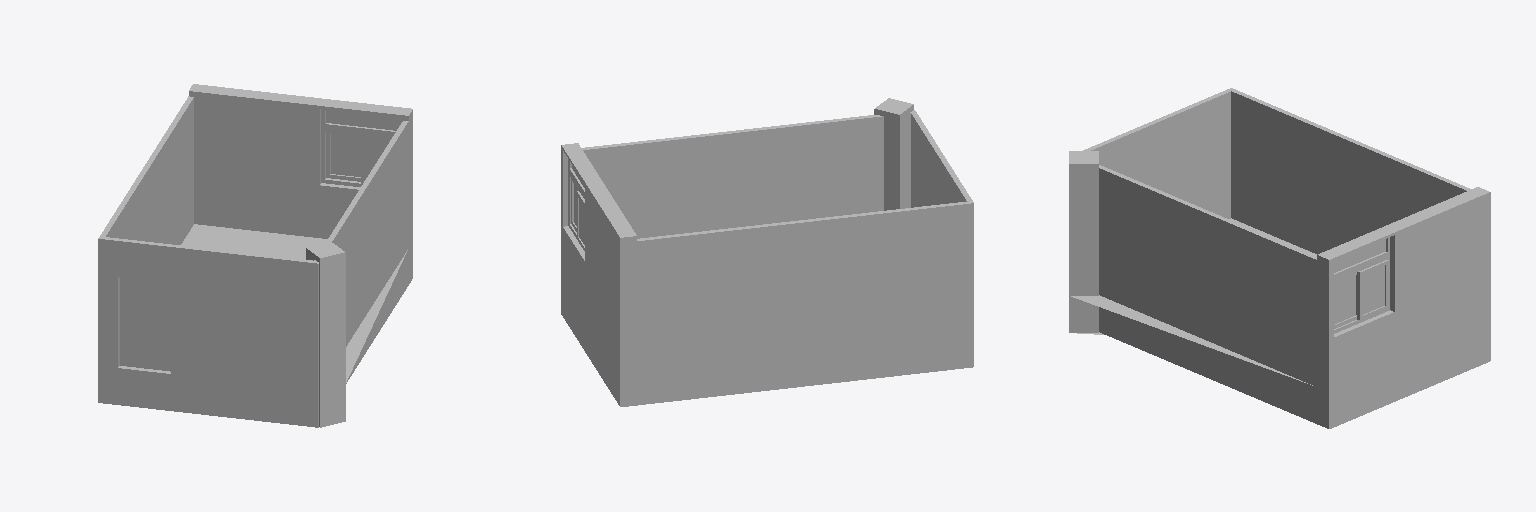
The picture shows the model from 3 angles: view 1: azimuth 30°, elevation 25°; view 2: azimuth 150°, elevation 25°; view 3: azimuth 270°, elevation 25°; orthographic projection.
Parts seen in each view (by area): view 1: Mesh3 Group3 Model, Mesh2 Group2 Model, Mesh1 Group1 Model, Mesh4 Group4 Model, Mesh5 Group5 Model, Mesh6 Group6 Model, Mesh11 Glazing2 Window_Sliding_Casement_14_1 Window_Sliding_7_1 , Mesh15 Glazing4 Window_Fixed_2_1 Group7 Model, Mesh7 Window_Sliding_Main_Frame_7 Window_Sliding_7_1 Group7 Mode; view 2: Mesh5 Group5 Model, Mesh4 Group4 Model, Mesh2 Group2 Model, Mesh1 Group1 Model, Mesh3 Group3 Model, Mesh6 Group6 Model; view 3: Mesh4 Group4 Model, Mesh2 Group2 Model, Mesh5 Group5 Model, Mesh3 Group3 Model, Mesh1 Group1 Model, Mesh6 Group6 Model, Mesh9 Glazing1 Window_Sliding_Casement_14 Window_Sliding_7_1 Gro, Mesh12 Glazing3 Window_Sliding_Casement_14_1 Window_Sliding_7_1 , Mesh13 Window_Sliding_Casement_14_1 Window_Sliding_7_1 Group7 Mo, Mesh16 Glazing5 Window_Fixed_2_1 Group7 Model.
Part boxes in pixels (bbox=[...]): Mesh3 Group3 Model: bbox=[98, 236, 318, 390]; Mesh2 Group2 Model: bbox=[189, 84, 412, 283]; Mesh1 Group1 Model: bbox=[98, 224, 408, 427]; Mesh4 Group4 Model: bbox=[314, 121, 408, 346]; Mesh5 Group5 Model: bbox=[100, 96, 193, 244]; Mesh6 Group6 Model: bbox=[306, 242, 345, 390]; Mesh11 Glazing2 Window_Sliding_Casement_14_1 Window_Sliding_7_1 : bbox=[331, 134, 360, 176]; Mesh15 Glazing4 Window_Fixed_2_1 Group7 Model: bbox=[326, 110, 400, 130]; Mesh7 Window_Sliding_Main_Frame_7 Window_Sliding_7_1 Group7 Mode: bbox=[321, 127, 393, 186]; Mesh5 Group5 Model: bbox=[637, 202, 968, 367]; Mesh4 Group4 Model: bbox=[582, 112, 910, 238]; Mesh2 Group2 Model: bbox=[561, 143, 636, 406]; Mesh1 Group1 Model: bbox=[637, 330, 973, 405]; Mesh3 Group3 Model: bbox=[911, 110, 973, 330]; Mesh6 Group6 Model: bbox=[874, 98, 913, 210]; Mesh4 Group4 Model: bbox=[1099, 165, 1316, 386]; Mesh2 Group2 Model: bbox=[1317, 187, 1490, 428]; Mesh5 Group5 Model: bbox=[1231, 90, 1471, 254]; Mesh3 Group3 Model: bbox=[1083, 88, 1235, 218]; Mesh1 Group1 Model: bbox=[1069, 218, 1316, 423]; Mesh6 Group6 Model: bbox=[1069, 151, 1098, 295]; Mesh9 Glazing1 Window_Sliding_Casement_14 Window_Sliding_7_1 Gro: bbox=[1334, 276, 1355, 324]; Mesh12 Glazing3 Window_Sliding_Casement_14_1 Window_Sliding_7_1 : bbox=[1363, 266, 1384, 314]; Mesh13 Window_Sliding_Casement_14_1 Window_Sliding_7_1 Group7 Mo: bbox=[1357, 260, 1388, 320]; Mesh16 Glazing5 Window_Fixed_2_1 Group7 Model: bbox=[1334, 239, 1385, 272].
Bounding box in the file's own units: 7.19 × 3.2 × 7.21.